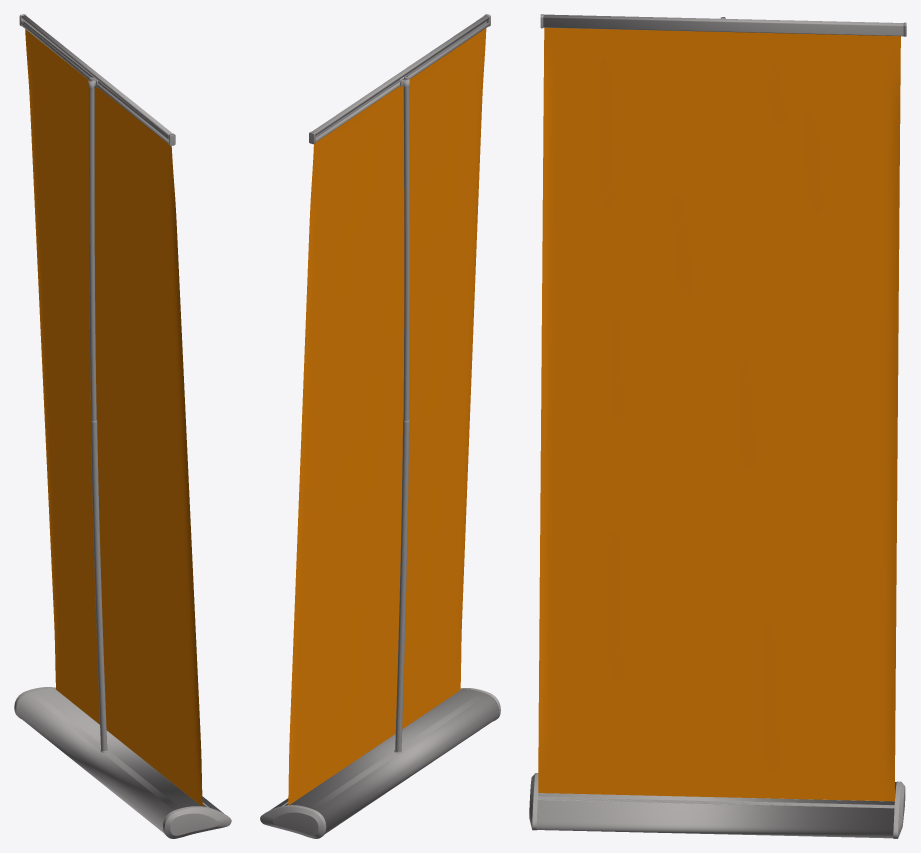
Rendered from rollup_luxury.glb.
3 views of the same model, side by side, from view 1: azimuth 30°, elevation 25°; view 2: azimuth 150°, elevation 25°; view 3: azimuth 270°, elevation 25° (orthographic). The views are drawn at different scales.
Visible parts, largest first — view 1: capac stanga.001; view 2: capac stanga.001; view 3: capac stanga.001.
Boxes of the visible parts, x1,y1,x2,y2 form: capac stanga.001: (14, 14, 231, 838); capac stanga.001: (260, 14, 500, 838); capac stanga.001: (529, 14, 906, 838).
Bounding box in the file's own units: 0.2218 × 1.92 × 0.8309.
